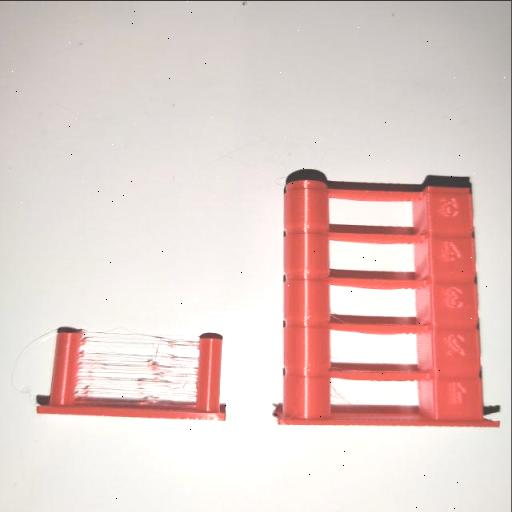stringing: (72, 334, 206, 402)
